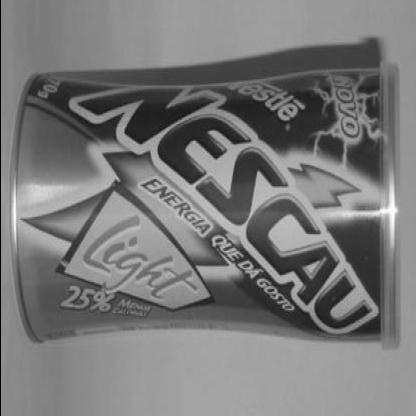alumunium_can: (11, 62, 402, 351)
